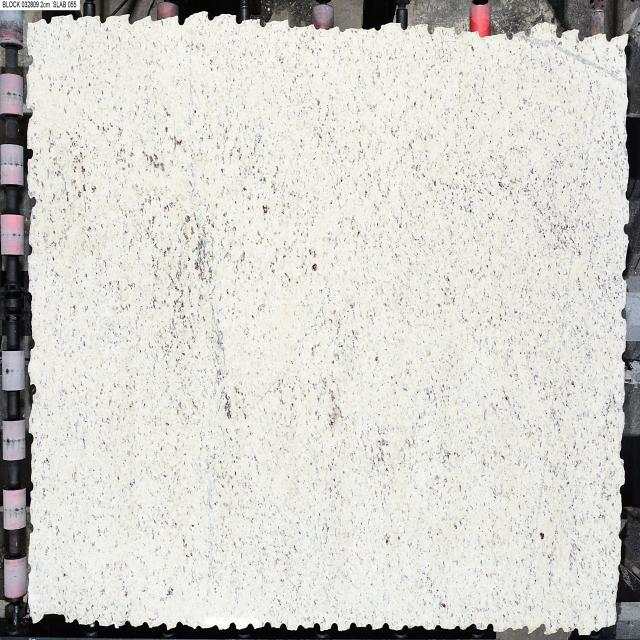chapa: (25, 11, 630, 634)
veio: (176, 13, 187, 28), (622, 221, 630, 239), (127, 12, 135, 29), (29, 194, 37, 211), (554, 24, 563, 39), (25, 105, 34, 120), (398, 20, 409, 32), (620, 268, 628, 283), (618, 482, 626, 497), (26, 146, 34, 160), (536, 623, 546, 634), (312, 622, 322, 633), (426, 24, 435, 36), (505, 30, 514, 42), (29, 381, 36, 396), (618, 445, 624, 462), (381, 621, 390, 632), (330, 622, 339, 633), (28, 431, 35, 444), (524, 27, 532, 38), (578, 29, 584, 43), (29, 53, 35, 67), (487, 622, 495, 632), (349, 622, 357, 632), (622, 305, 626, 322)
